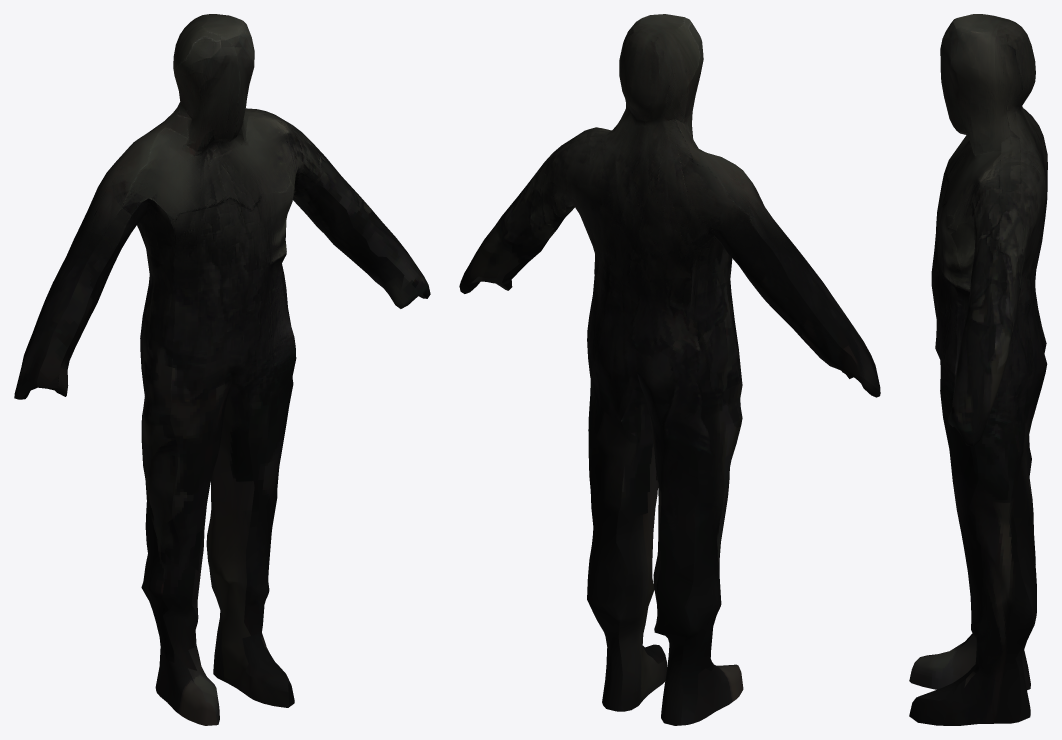
The model's file is soldier-base-novest.glb.
The picture shows the model from 3 angles, left to right: view 1: azimuth 30°, elevation 25°; view 2: azimuth 150°, elevation 25°; view 3: azimuth 270°, elevation 25°; orthographic projection.
Parts seen in each view (by area): view 1: geometry_0; view 2: geometry_0; view 3: geometry_0.
Boxes of the visible parts, x1=… form: geometry_0: x1=14, y1=14, x2=430, y2=725; geometry_0: x1=459, y1=14, x2=880, y2=725; geometry_0: x1=909, y1=14, x2=1047, y2=725.
Bounding box in the file's own units: 0.6502 × 0.9997 × 0.1848.
Materials: 1 (1 with a texture image).
